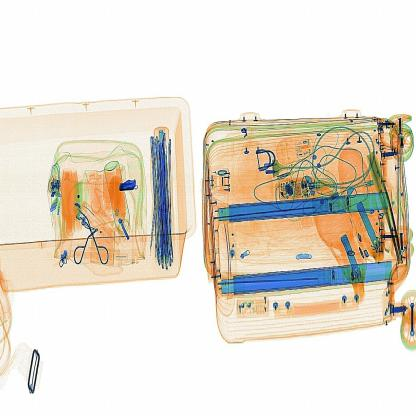knife: (115, 175, 144, 196)
